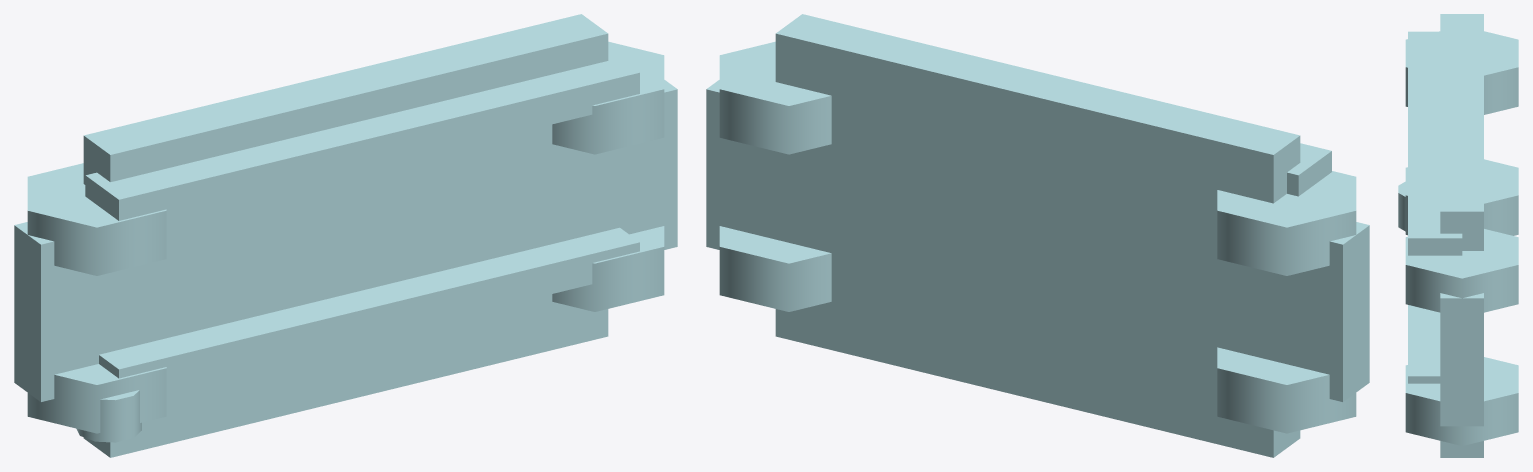
The model's file is titan_dashboard.gltf.
3 views of the same model, side by side, from view 1: azimuth 30°, elevation 25°; view 2: azimuth 150°, elevation 25°; view 3: azimuth 270°, elevation 25° (orthographic). The views are drawn at different scales.
Parts seen in each view (by area): view 1: titan_dashboard; view 2: titan_dashboard; view 3: titan_dashboard.
Part boxes in pixels (left/top/right/bottom): titan_dashboard: left=14, top=14, right=677, bottom=457; titan_dashboard: left=706, top=14, right=1369, bottom=457; titan_dashboard: left=1398, top=14, right=1518, bottom=457.
Bounding box in the file's own units: 1.1 × 0.5 × 0.2215.
